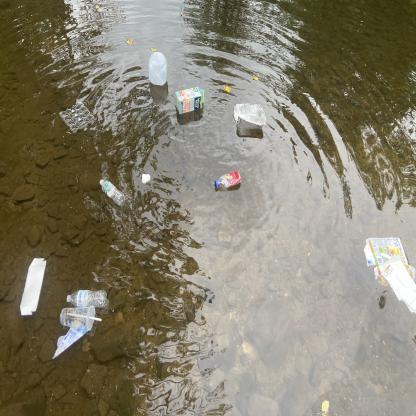trash: (362, 235, 416, 315), (18, 255, 50, 318), (56, 100, 100, 135), (51, 322, 90, 360), (57, 304, 102, 332), (63, 287, 111, 310), (231, 101, 268, 130), (173, 86, 208, 116), (212, 167, 244, 193), (96, 177, 124, 205), (147, 50, 167, 86), (140, 172, 151, 185)
